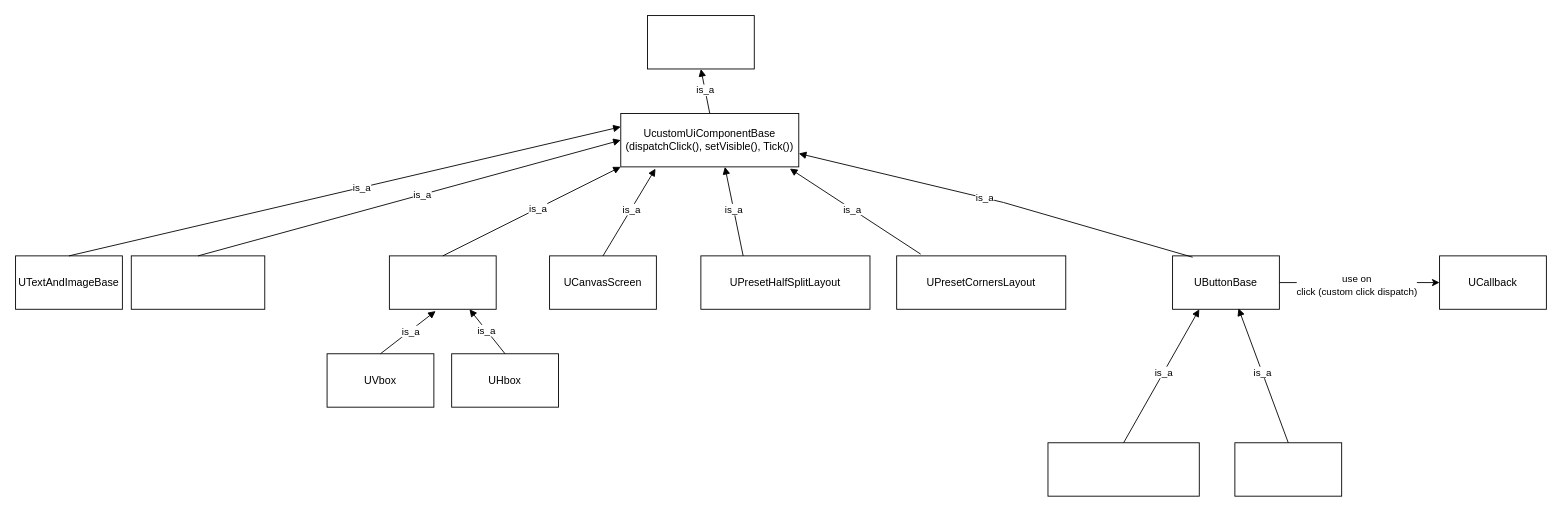
Some shapes in this 1562 by 512 pixel diagram are drawn without their labels. Each missing label, with the box of its shape:
UAutoBoxBase: (388, 255, 496, 309)
UImageOverlayedBase: (130, 255, 265, 309)
UImageOverlayedButtonBase: (1047, 442, 1199, 496)
UObject: (647, 15, 754, 69)
UTextButton: (1234, 442, 1342, 496)
